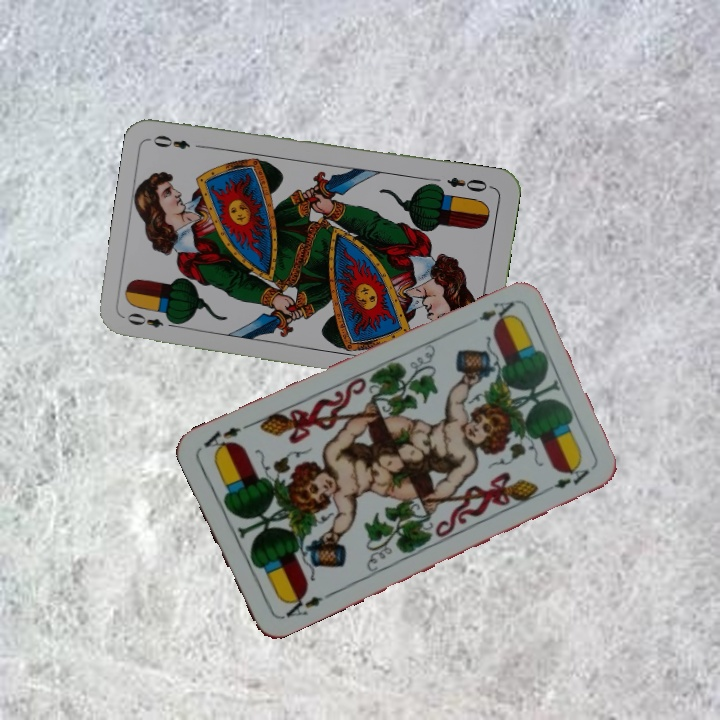EA: (277, 587, 325, 622), (475, 297, 518, 328)
EO: (123, 309, 181, 331), (443, 172, 495, 195)
